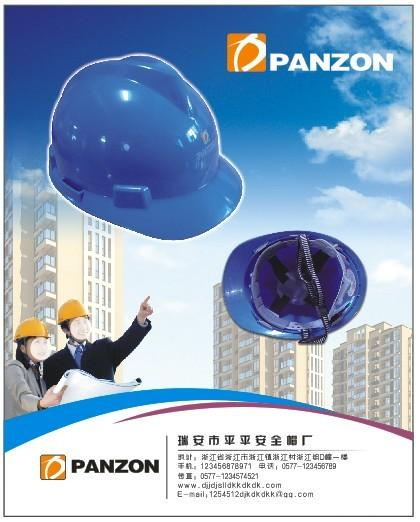helmet: (50, 55, 238, 240), (225, 237, 370, 341), (14, 320, 51, 346), (59, 303, 93, 325)
